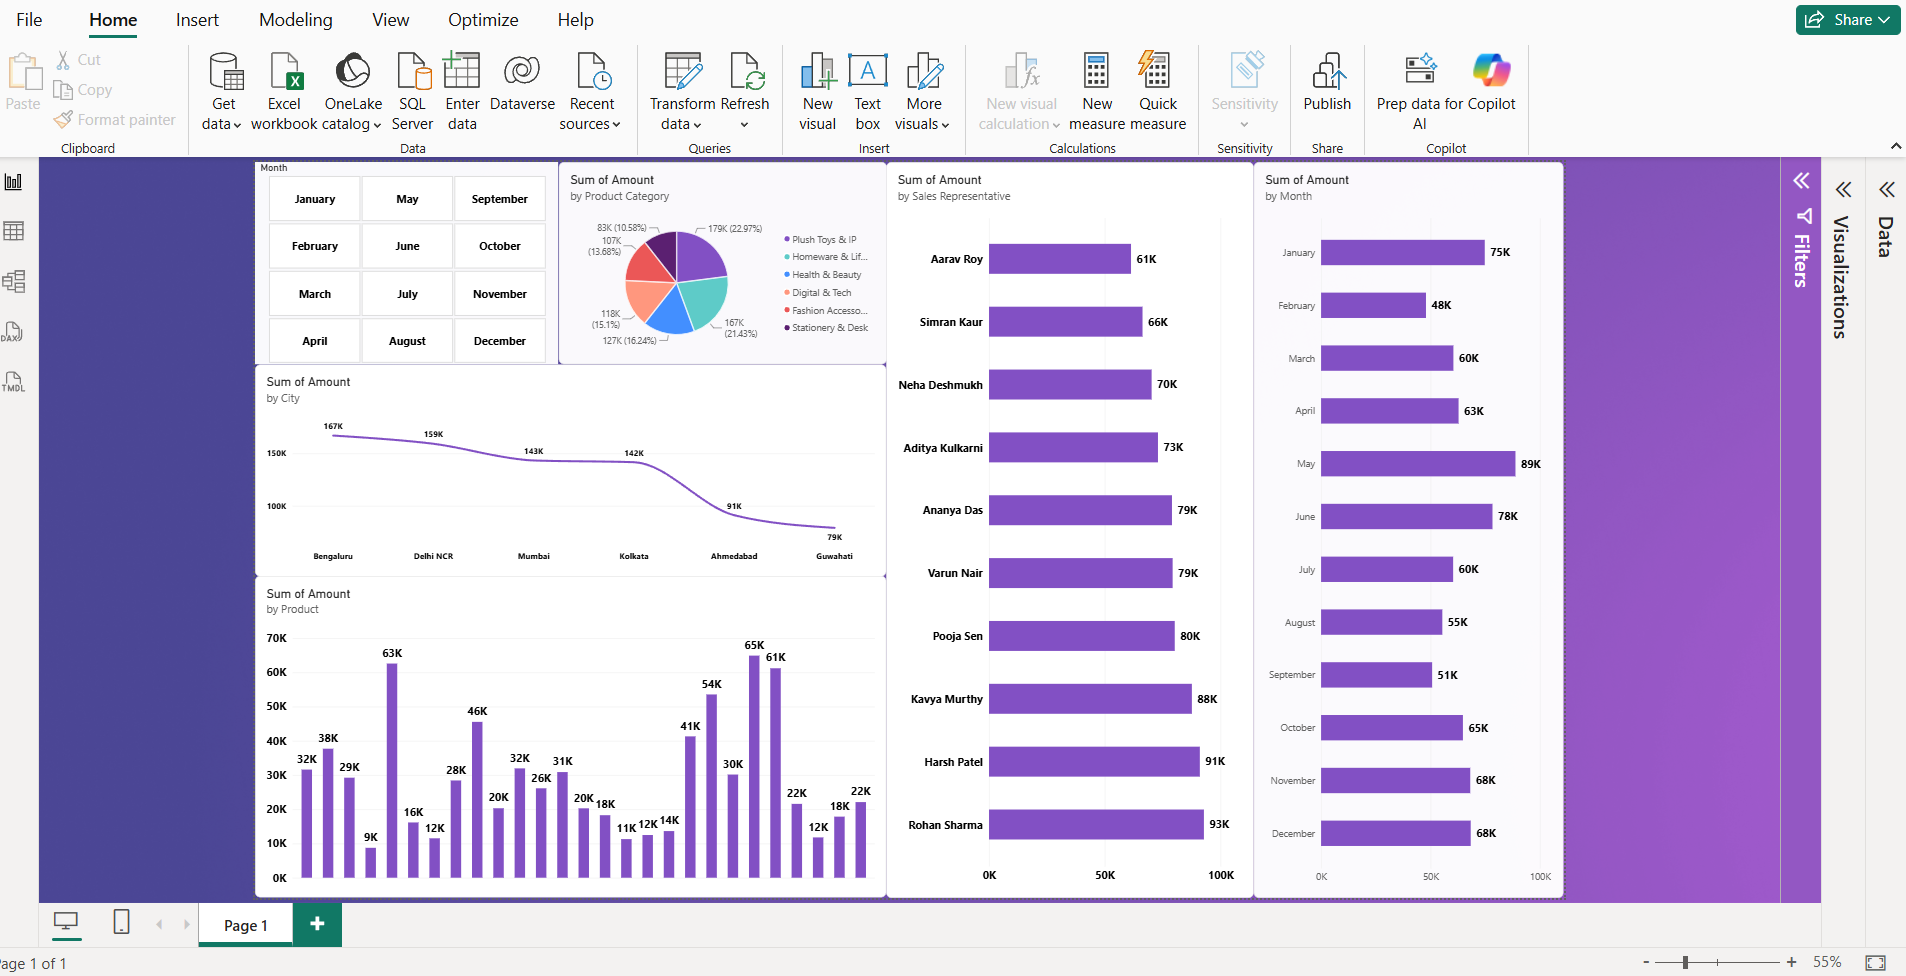

The dashboard page shown, as its layout file describes it:
{"tool":"powerbi","page":{"name":"Page 1","canvas":[1920,1080],"ordinal":0},"visuals":[{"type":"clusteredBarChart","fields":{"Category":["muniso_AIR_sales_2025.Date.Variation.Date Hierarchy.Month"],"Y":["Sum(muniso_AIR_sales_2025.Amount)"]},"box":[1465.8,0,454.2,1080.4],"z":0},{"type":"clusteredBarChart","fields":{"Category":["muniso_AIR_sales_2025.Sales Representative"],"Y":["Sum(muniso_AIR_sales_2025.Amount)"]},"box":[926.5,0,539.3,1080.4],"z":1000},{"type":"clusteredColumnChart","fields":{"Category":["muniso_AIR_sales_2025.Product"],"Y":["Sum(muniso_AIR_sales_2025.Amount)"]},"box":[0,608,926.5,472.3],"z":2000},{"type":"lineChart","fields":{"Category":["muniso_AIR_sales_2025.City"],"Y":["Sum(muniso_AIR_sales_2025.Amount)"]},"box":[0,296.8,926.5,311.3],"z":3000},{"type":"pieChart","fields":{"Category":["muniso_AIR_sales_2025.Product Category"],"Y":["Sum(muniso_AIR_sales_2025.Amount)"]},"box":[445.2,0,481.4,296.8],"z":3001},{"type":"slicer","fields":{"Values":["muniso_AIR_sales_2025.Date.Variation.Date Hierarchy.Month"]},"box":[0,0,445.2,296.8],"z":3002}]}

Visuals, with their boxes on the page's 1920x1080 design canvas (x1, y1, x2, y2). These are canvas units, not pixel positions in the 1906x976 screenshot, which may show the page scaled, cropped or inside an application window:
clusteredBarChart - muniso_AIR_sales_2025.Date.Variation.Date Hierarchy.Month x Sum(muniso_AIR_sales_2025.Amount): box(1466, 0, 1920, 1080)
clusteredBarChart - muniso_AIR_sales_2025.Sales Representative x Sum(muniso_AIR_sales_2025.Amount): box(926, 0, 1466, 1080)
clusteredColumnChart - muniso_AIR_sales_2025.Product x Sum(muniso_AIR_sales_2025.Amount): box(0, 608, 926, 1080)
lineChart - muniso_AIR_sales_2025.City x Sum(muniso_AIR_sales_2025.Amount): box(0, 297, 926, 608)
pieChart - muniso_AIR_sales_2025.Product Category x Sum(muniso_AIR_sales_2025.Amount): box(445, 0, 927, 297)
slicer - muniso_AIR_sales_2025.Date.Variation.Date Hierarchy.Month: box(0, 0, 445, 297)
